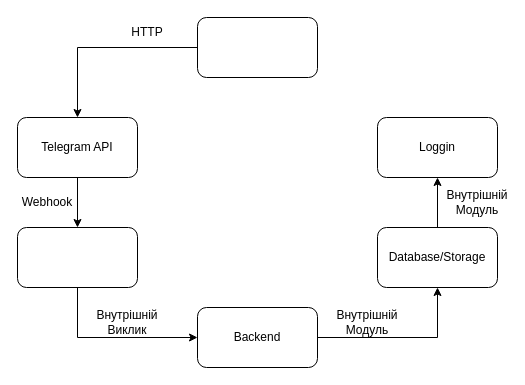
Image size: 525x385. Some labels were removed from this diagram. The box of each missing label's shape, as (x1, y1, x2, y2) in pixels:
Frontend UI: (16, 226, 138, 288)
User: (196, 16, 318, 78)
